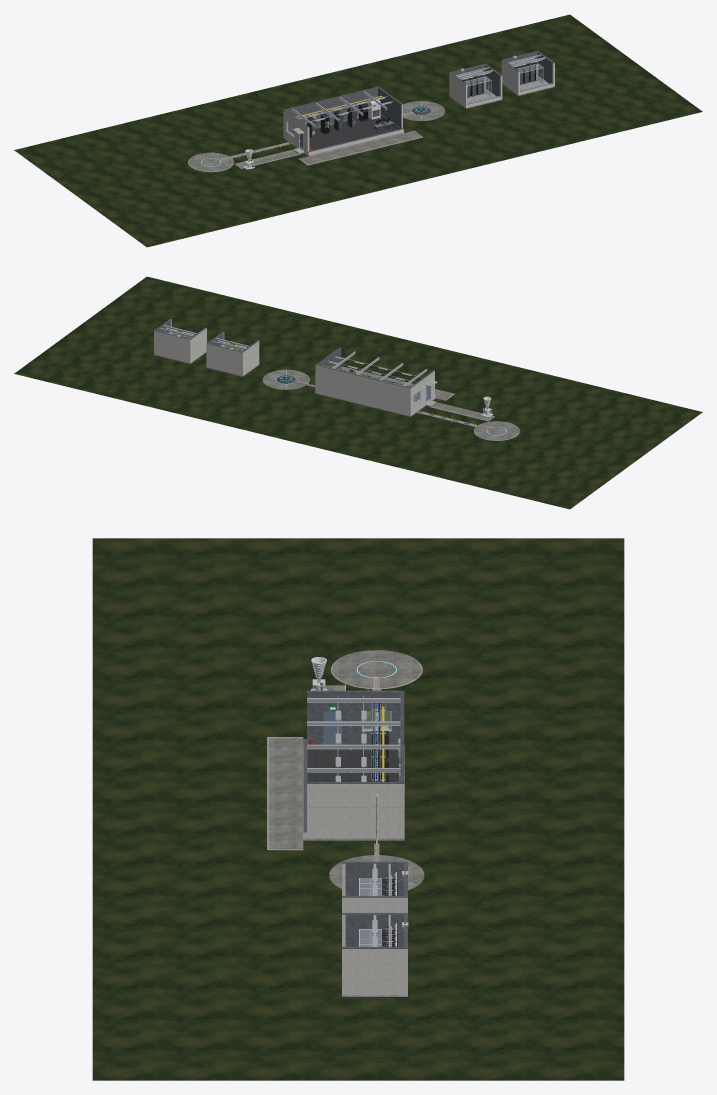
Rendered from flow_assets.glb.
The picture shows the model from 3 angles, top to bottom: view 1: azimuth 30°, elevation 25°; view 2: azimuth 150°, elevation 25°; view 3: azimuth 270°, elevation 25°; orthographic projection. The views are drawn at different scales.
Visible parts, largest first — view 1: env_ground__Grass, env_room__Wall_Inner, env_ground__Pave, env_room__Floor_Room, env_room__Wall_Paint, st_ant__Pave, st_bonn__Wall_Paint, st_waco__Wall_Paint, env_room__Panel_Grey, st_globe__Pave, st_waco__Wall_Inner, st_bonn__Wall_Inner (+1 smaller); view 2: env_ground__Grass, env_room__Wall_Paint, st_bonn__Wall_Paint, st_waco__Wall_Paint, env_ground__Pave, st_ant__Pave, st_globe__Pave, env_room__Panel_Grey; view 3: env_ground__Grass, env_room__Wall_Paint, env_ground__Pave, st_waco__Wall_Paint, env_room__Wall_Inner, st_ant__Pave, env_room__Panel_Grey, env_room__Floor_Room, st_waco__Wall_Inner, st_bonn__Wall_Inner, env_room__Wall_Cut, st_bonn__Wall_Paint (+1 smaller).
Part boxes in pixels (x1,y1,x2,y2): env_ground__Grass: (14,14,702,247); env_room__Wall_Inner: (286,87,401,150); env_ground__Pave: (235,131,421,168); env_room__Floor_Room: (309,117,397,150); env_room__Wall_Paint: (283,104,403,155); st_ant__Pave: (188,153,233,171); st_bonn__Wall_Paint: (449,73,502,107); st_waco__Wall_Paint: (501,60,554,94); env_room__Panel_Grey: (289,91,393,134); st_globe__Pave: (403,101,445,120); st_waco__Wall_Inner: (505,52,552,83); st_bonn__Wall_Inner: (452,65,499,96); env_ground__Grass: (14,276,702,509); env_room__Wall_Paint: (315,365,435,415); st_bonn__Wall_Paint: (206,332,259,375); st_waco__Wall_Paint: (154,319,206,362); env_ground__Pave: (341,367,494,420); st_ant__Pave: (474,421,519,440); st_globe__Pave: (262,369,310,389); env_room__Panel_Grey: (327,351,427,402); env_ground__Grass: (92,538,624,1080); env_room__Wall_Paint: (303,730,404,838); env_ground__Pave: (268,685,344,848); st_waco__Wall_Paint: (342,914,407,994); env_room__Wall_Inner: (307,692,400,781); st_ant__Pave: (332,650,421,688); env_room__Panel_Grey: (307,696,400,781); env_room__Floor_Room: (307,749,400,781); st_waco__Wall_Inner: (345,914,404,946); st_bonn__Wall_Inner: (345,863,404,895); env_room__Wall_Cut: (303,690,404,832); st_bonn__Wall_Paint: (342,863,407,912).
Size of the model in its own units: 70 by 5.72 by 29.
Materials: 82 (18 with a texture image).
